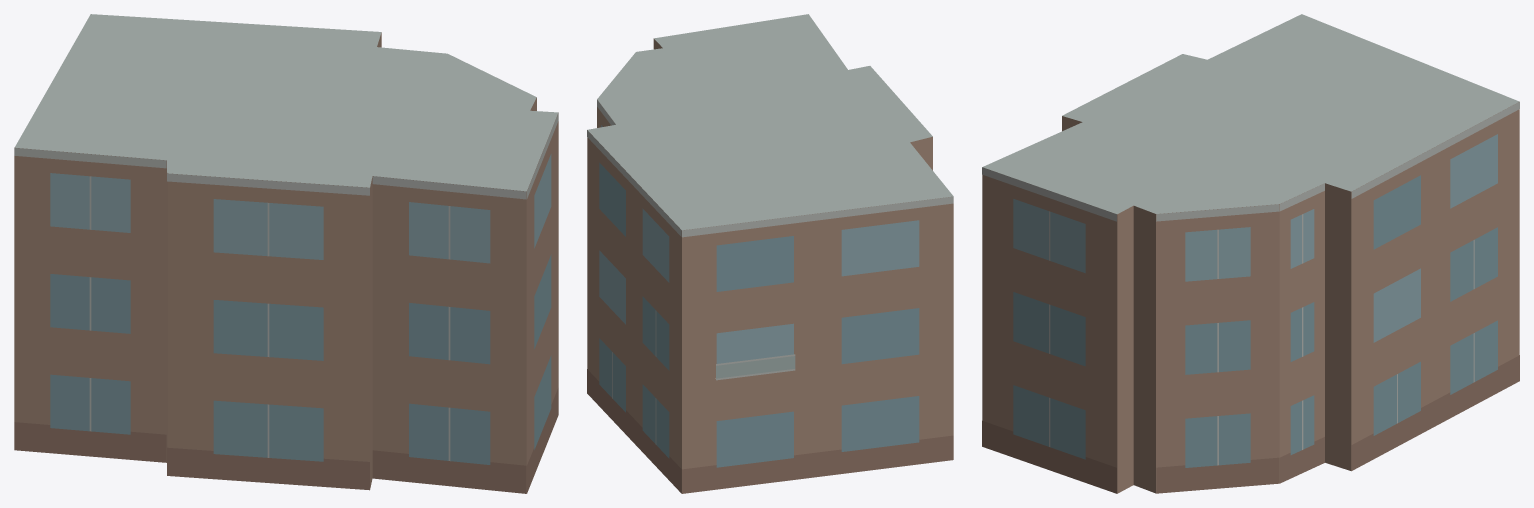
File: survey-upis-32692675.glb
3 views of the same model, side by side, from view 1: azimuth 30°, elevation 25°; view 2: azimuth 150°, elevation 25°; view 3: azimuth 270°, elevation 25° (orthographic). The views are drawn at different scales.
Visible parts, largest first — view 1: survey-upis-32692675.tmp; view 2: survey-upis-32692675.tmp; view 3: survey-upis-32692675.tmp.
Part boxes in pixels (bbox=[...]): survey-upis-32692675.tmp: bbox=[14, 14, 558, 493]; survey-upis-32692675.tmp: bbox=[587, 14, 953, 493]; survey-upis-32692675.tmp: bbox=[982, 14, 1519, 493].
Bounding box in the file's own units: 13.99 × 9.1 × 15.87.
